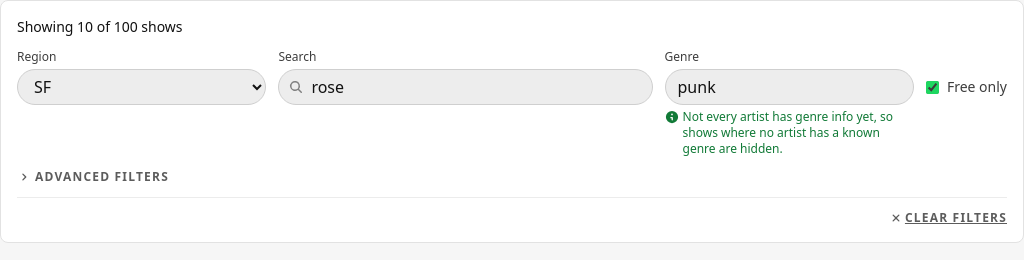
Test case: FilterBar clear filters › resets every filter, including the genre combobox
Expected: the dropdown labelled "Genre" holds "punk", [664, 69, 914, 105]
Click the button "Clear filters": point(948, 218) [889, 210, 1007, 226]
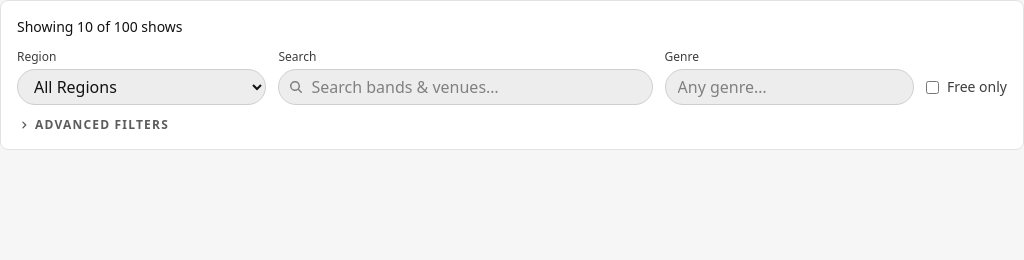
Result: the dropdown labelled "Genre" is empty at [664, 69, 914, 105]
Result: the field labelled "Search" is empty at [278, 69, 652, 105]
Result: the checkbox labelled "Free only" is not checked at [926, 80, 939, 94]
